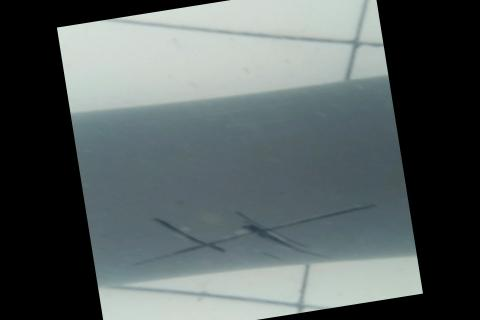keretakan: (115, 179, 389, 288)
